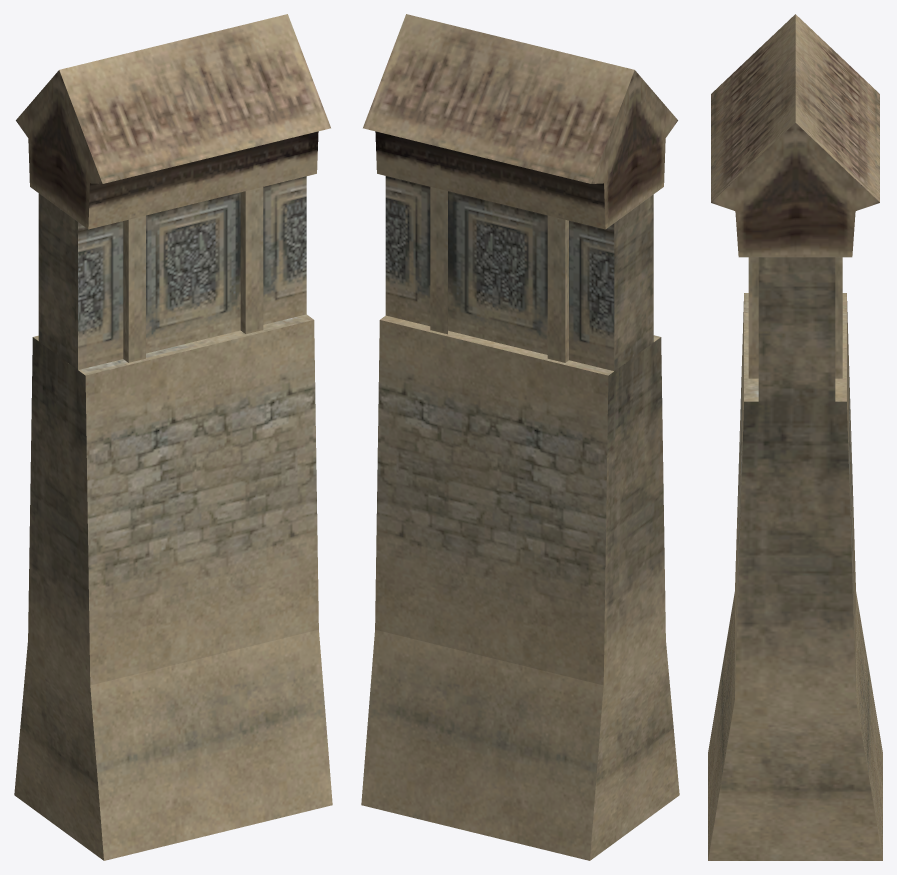
Rendered from desert-middledam-04_lod_01.fbx.
3 renders of one model, left to right at view 1: azimuth 30°, elevation 25°; view 2: azimuth 150°, elevation 25°; view 3: azimuth 270°, elevation 25°, orthographic. The views are drawn at different scales.
Parts seen in each view (by area): view 1: desert-middledam-02; view 2: desert-middledam-02; view 3: desert-middledam-02.
Part boxes in pixels (left/top/right/bottom): desert-middledam-02: left=14, top=14, right=332, bottom=860; desert-middledam-02: left=361, top=14, right=679, bottom=860; desert-middledam-02: left=708, top=14, right=882, bottom=860.
Size of the model in its own units: 2.5 by 7.92 by 1.7.
